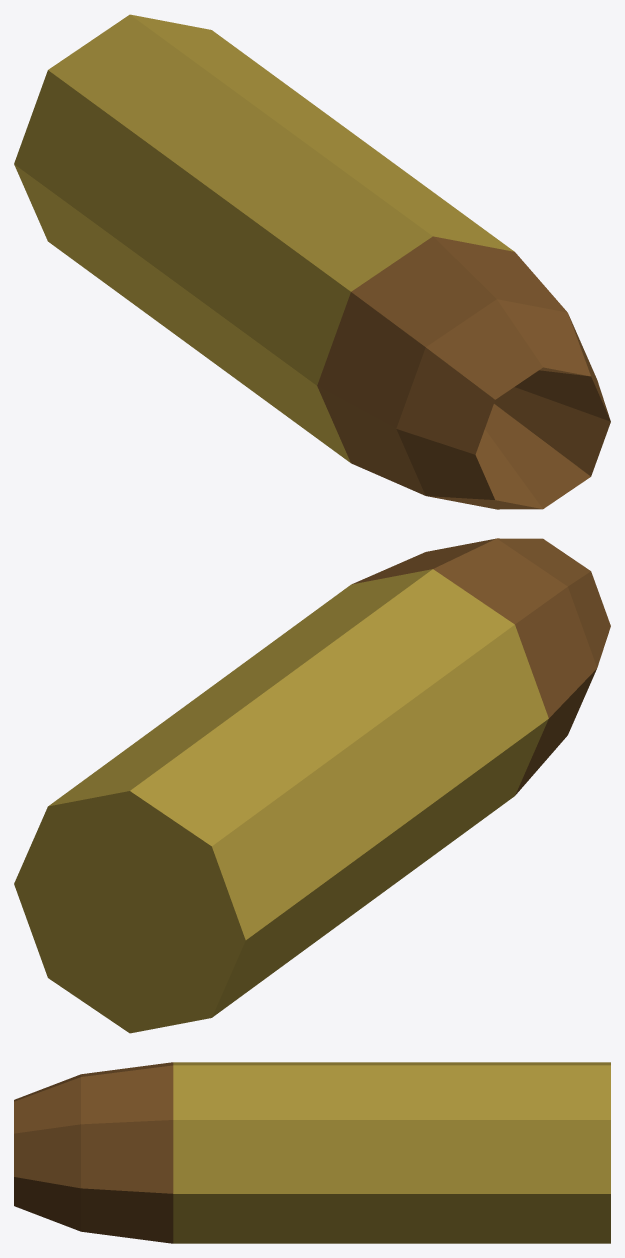
The model's file is HollowPointSmall.glb.
The picture shows the model from 3 angles, top to bottom: view 1: azimuth 30°, elevation 25°; view 2: azimuth 150°, elevation 25°; view 3: azimuth 270°, elevation 25°; orthographic projection. The views are drawn at different scales.
Visible parts, largest first — view 1: HollowPointSmall; view 2: HollowPointSmall; view 3: HollowPointSmall.
Boxes of the visible parts, x1,y1,x2,y2 form: HollowPointSmall: (14, 14, 610, 509); HollowPointSmall: (14, 538, 610, 1033); HollowPointSmall: (14, 1062, 610, 1243).
Size of the model in its own units: 0.00971 by 0.00971 by 0.03.
Materials: 1 (1 with a texture image).
